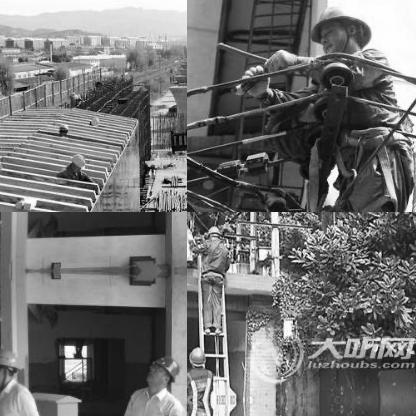Helmet: (309, 0, 370, 61), (144, 351, 184, 389), (0, 342, 23, 388), (188, 344, 206, 368), (65, 150, 85, 171), (204, 223, 221, 240), (86, 112, 100, 126), (54, 122, 68, 134)
